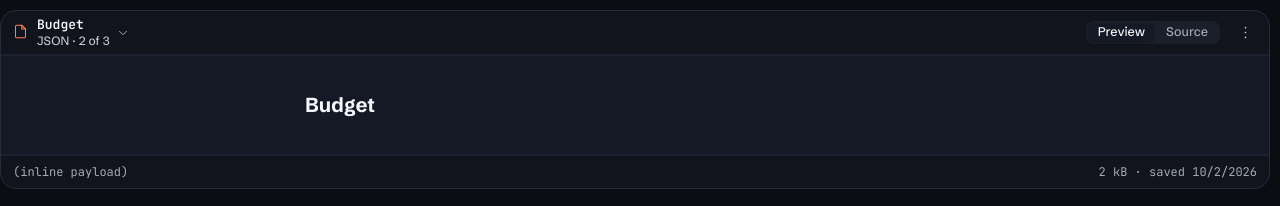
Test case: DocumentPanel: the header switcher › selects another artifact with a click
Click the button "Budget JSON · 2 of 3" at (83, 32), box [31, 10, 136, 54]
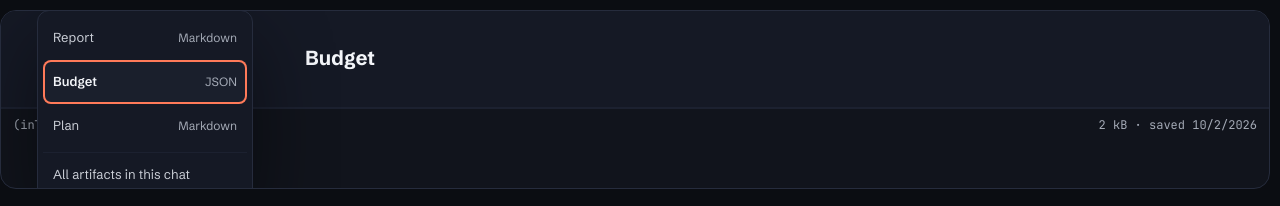
Click the option "Plan Markdown" at (208, 126), box [53, 117, 237, 133]
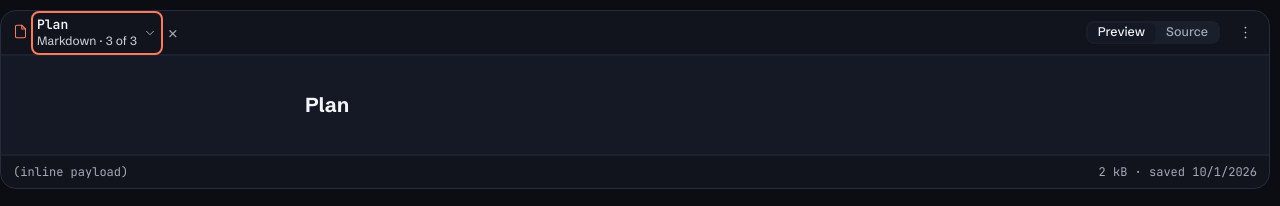
Expected: the list is gone
Expected: the button "Plan Markdown · 3 of 3" is shown, [31, 10, 163, 54]
